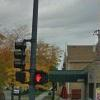Traffic light: (7, 32, 44, 90)
